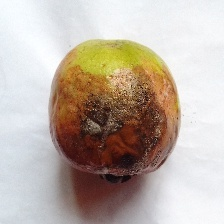guava: (34, 14, 194, 196)
